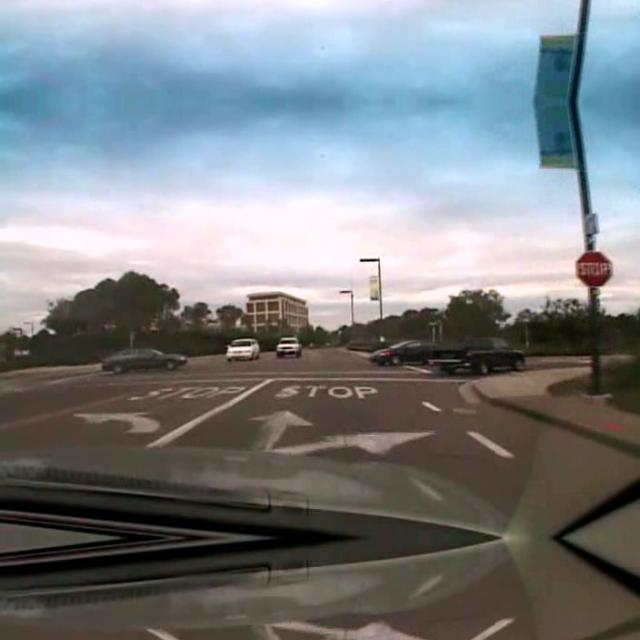stop: (574, 249, 612, 285)
